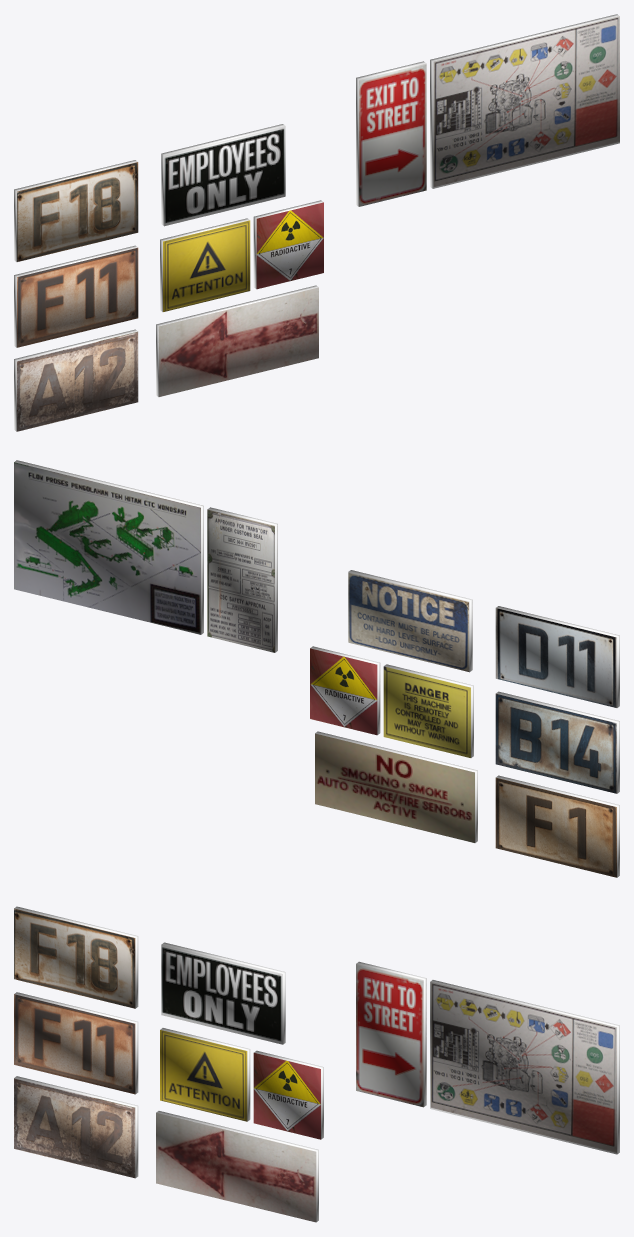
Rendered from Signs.obj.
The picture shows the model from 3 angles, top to bottom: view 1: azimuth 30°, elevation 25°; view 2: azimuth 150°, elevation 25°; view 3: azimuth 330°, elevation 25°; orthographic projection.
Visible parts, largest first — view 1: Sign Machinery, Sign Arrow-No Smoking, Sign Exit-Transport, Sign F11-B14, Sign Notice-Employees, Sign F18-D11, Sign A12-F1, Sign Attention-Danger, Sign Radioactive; view 2: Sign Machinery, Sign Arrow-No Smoking, Sign Exit-Transport, Sign F11-B14, Sign Notice-Employees, Sign F18-D11, Sign A12-F1, Sign Attention-Danger, Sign Radioactive; view 3: Sign Machinery, Sign Arrow-No Smoking, Sign Exit-Transport, Sign Notice-Employees, Sign F11-B14, Sign F18-D11, Sign A12-F1, Sign Attention-Danger, Sign Radioactive.
Boxes of the visible parts, x1,y1,x2,y2 form: Sign Machinery: [430, 14, 619, 188]; Sign Arrow-No Smoking: [156, 285, 318, 396]; Sign Exit-Transport: [356, 61, 426, 206]; Sign F11-B14: [14, 245, 138, 347]; Sign Notice-Employees: [161, 124, 285, 226]; Sign F18-D11: [14, 160, 138, 261]; Sign A12-F1: [14, 329, 138, 431]; Sign Attention-Danger: [160, 218, 250, 311]; Sign Radioactive: [253, 200, 323, 289]; Sign Machinery: [14, 460, 203, 634]; Sign Arrow-No Smoking: [315, 731, 477, 842]; Sign Exit-Transport: [207, 507, 277, 652]; Sign F11-B14: [495, 691, 619, 793]; Sign Notice-Employees: [348, 570, 472, 672]; Sign F18-D11: [495, 606, 619, 707]; Sign A12-F1: [495, 775, 619, 877]; Sign Attention-Danger: [383, 664, 473, 757]; Sign Radioactive: [310, 646, 380, 735]; Sign Machinery: [430, 980, 619, 1154]; Sign Arrow-No Smoking: [156, 1111, 318, 1222]; Sign Exit-Transport: [356, 961, 426, 1107]; Sign Notice-Employees: [161, 942, 285, 1044]; Sign F11-B14: [14, 992, 138, 1094]; Sign F18-D11: [14, 906, 138, 1008]; Sign A12-F1: [14, 1076, 138, 1178]; Sign Attention-Danger: [160, 1028, 250, 1121]; Sign Radioactive: [253, 1050, 323, 1139].
Bounding box in the file's own units: 33.24 × 14.14 × 0.2727.
9 materials, 9 textured.
